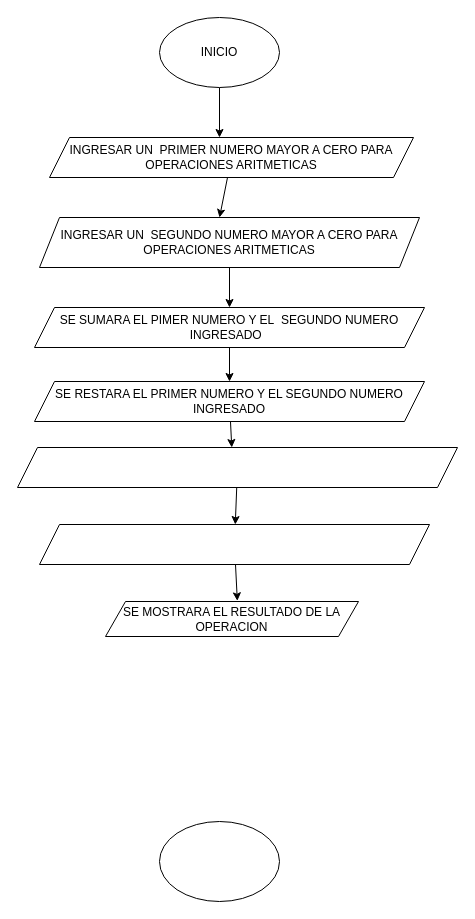
Image size: 475x919. Some labels were removed from this diagram. The box of each missing label's shape, as (x1, y1, x2, y2) in pixels:
FIN: (158, 820, 280, 902)
SE DIVIDIRA EL PRIMER NUMERO Y EL SEGUNDO NUMERO INGRESADO: (38, 524, 430, 564)
SE MULTIPLICARA EL PRIMER NUMERO Y EL SEGUNDO NUMERO INGRESADO: (16, 446, 458, 488)
